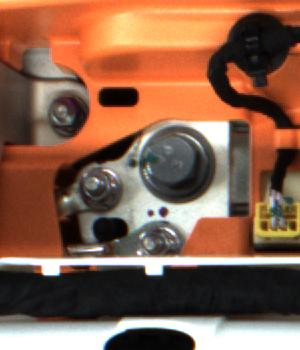nut_b: (130, 118, 224, 204)
screw_s: (78, 165, 129, 212), (38, 95, 87, 137), (133, 221, 182, 258)
